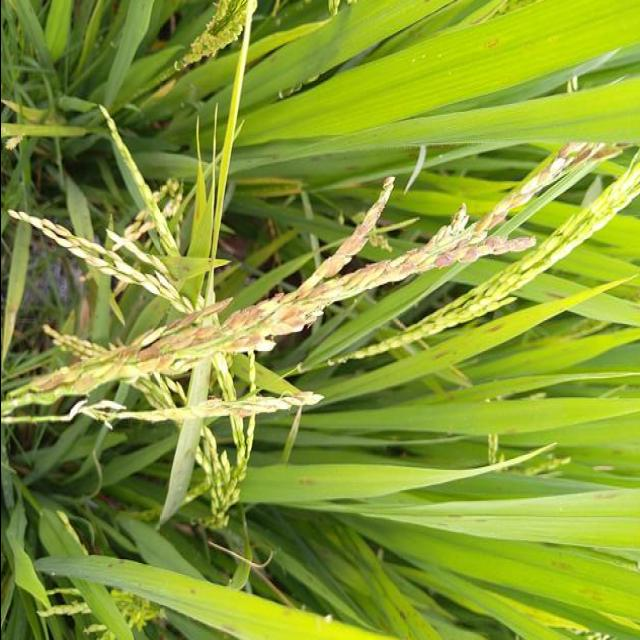Panicle Blight: (85, 146, 593, 382), (188, 392, 321, 417), (26, 367, 99, 393)
